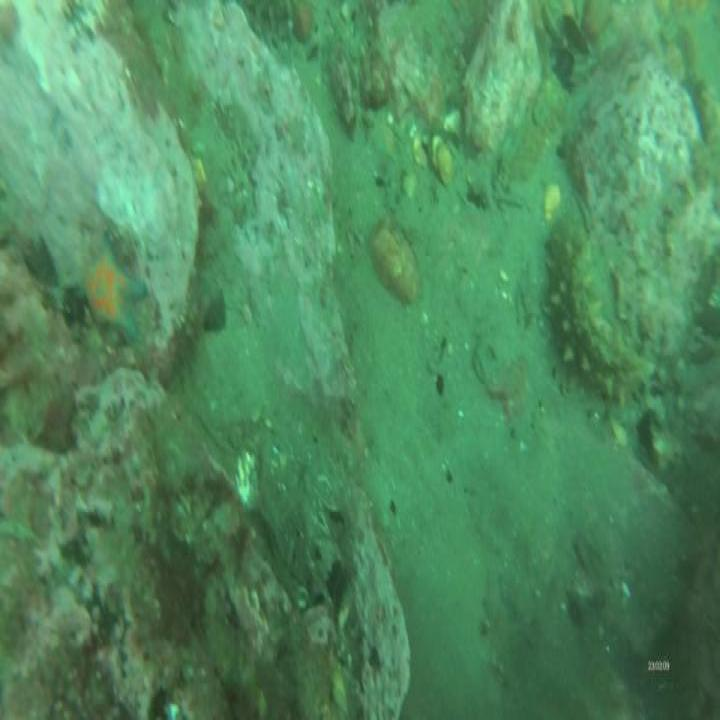holothurian: (546, 221, 645, 404)
starfish: (80, 243, 146, 345)
